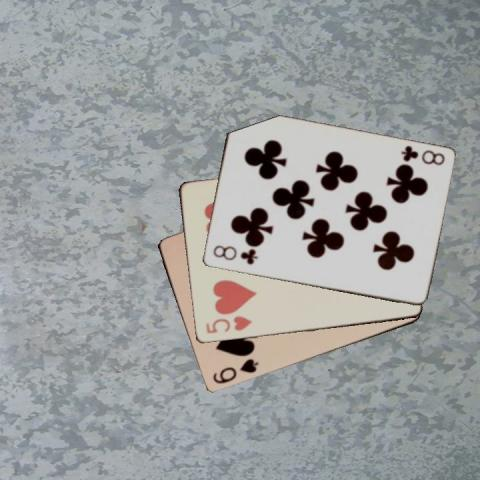5h: (203, 314, 253, 336)
6s: (209, 356, 260, 385)
8c: (209, 242, 259, 267), (397, 143, 446, 167)
